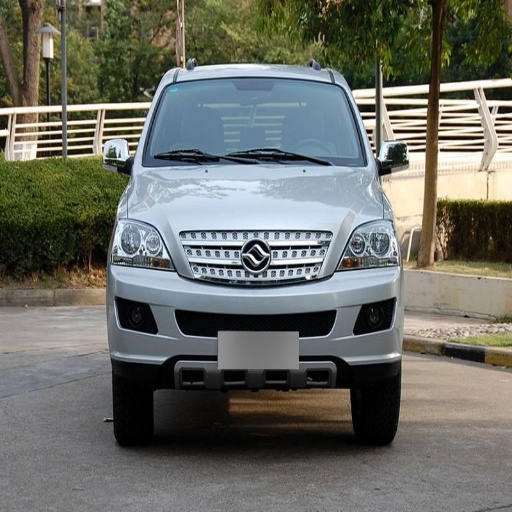back_right_light: (109, 231, 401, 416)
front_bumper: (143, 78, 369, 166)
front_left_door: (338, 217, 398, 269)
front_right_door: (112, 216, 171, 269)
front_right_light: (128, 167, 383, 237)
hood: (378, 141, 409, 173)
left_mirror: (103, 139, 131, 172)
trunk: (351, 369, 399, 443), (115, 369, 154, 444)
